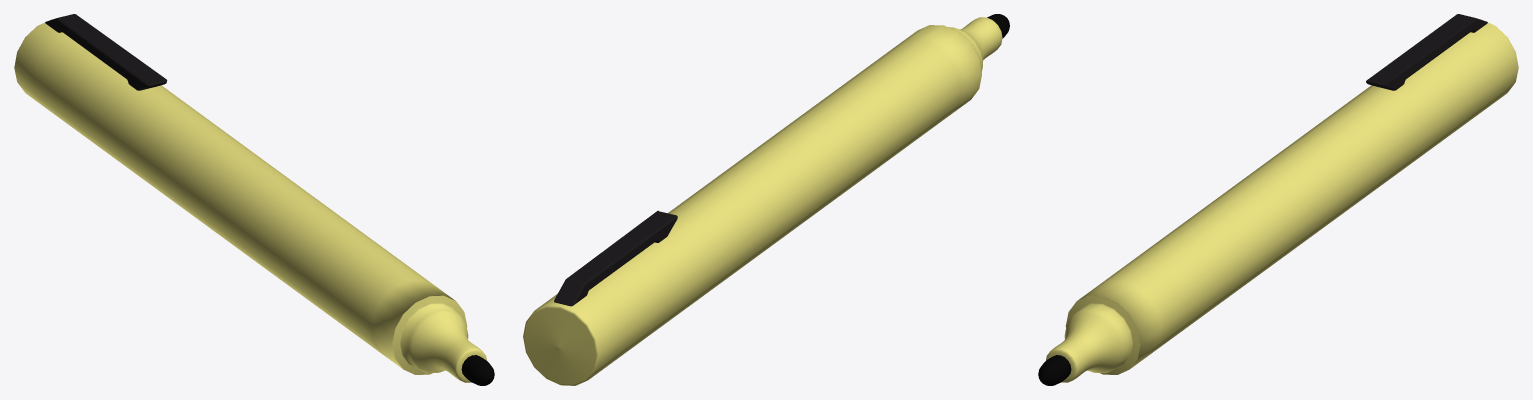
Rendered from Kalem.fbx.
3 renders of one model, left to right at view 1: azimuth 30°, elevation 25°; view 2: azimuth 150°, elevation 25°; view 3: azimuth 330°, elevation 25°, orthographic.
Visible parts, largest first — view 1: BézierCurve, BézierCurve.002, BézierCurve.001; view 2: BézierCurve, BézierCurve.002; view 3: BézierCurve, BézierCurve.002, BézierCurve.001.
Part boxes in pixels (box(x1,y1,x2,y2)): BézierCurve: box(14, 19, 486, 382); BézierCurve.002: box(45, 14, 167, 90); BézierCurve.001: box(461, 355, 494, 385); BézierCurve: box(523, 17, 1002, 385); BézierCurve.002: box(554, 210, 677, 306); BézierCurve: box(1046, 19, 1518, 382); BézierCurve.002: box(1366, 14, 1487, 90); BézierCurve.001: box(1038, 355, 1071, 385).
Size of the model in its own units: 42.25 by 49.99 by 429.
